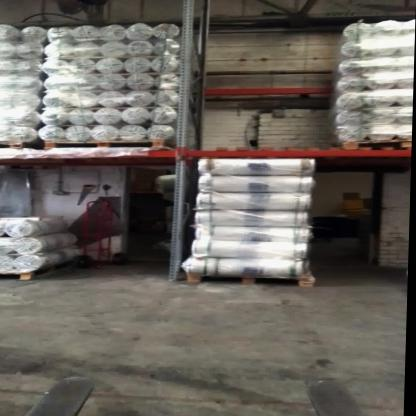vertical_damage: (160, 253, 189, 286)
